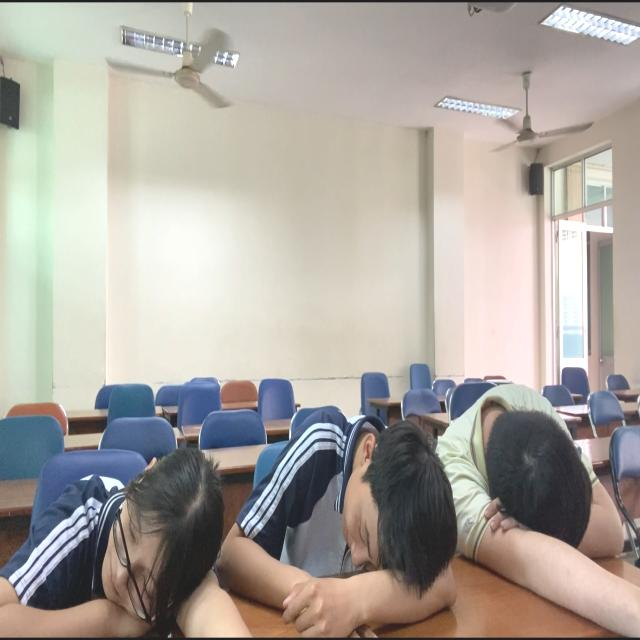sleep: (2, 447, 243, 640)
